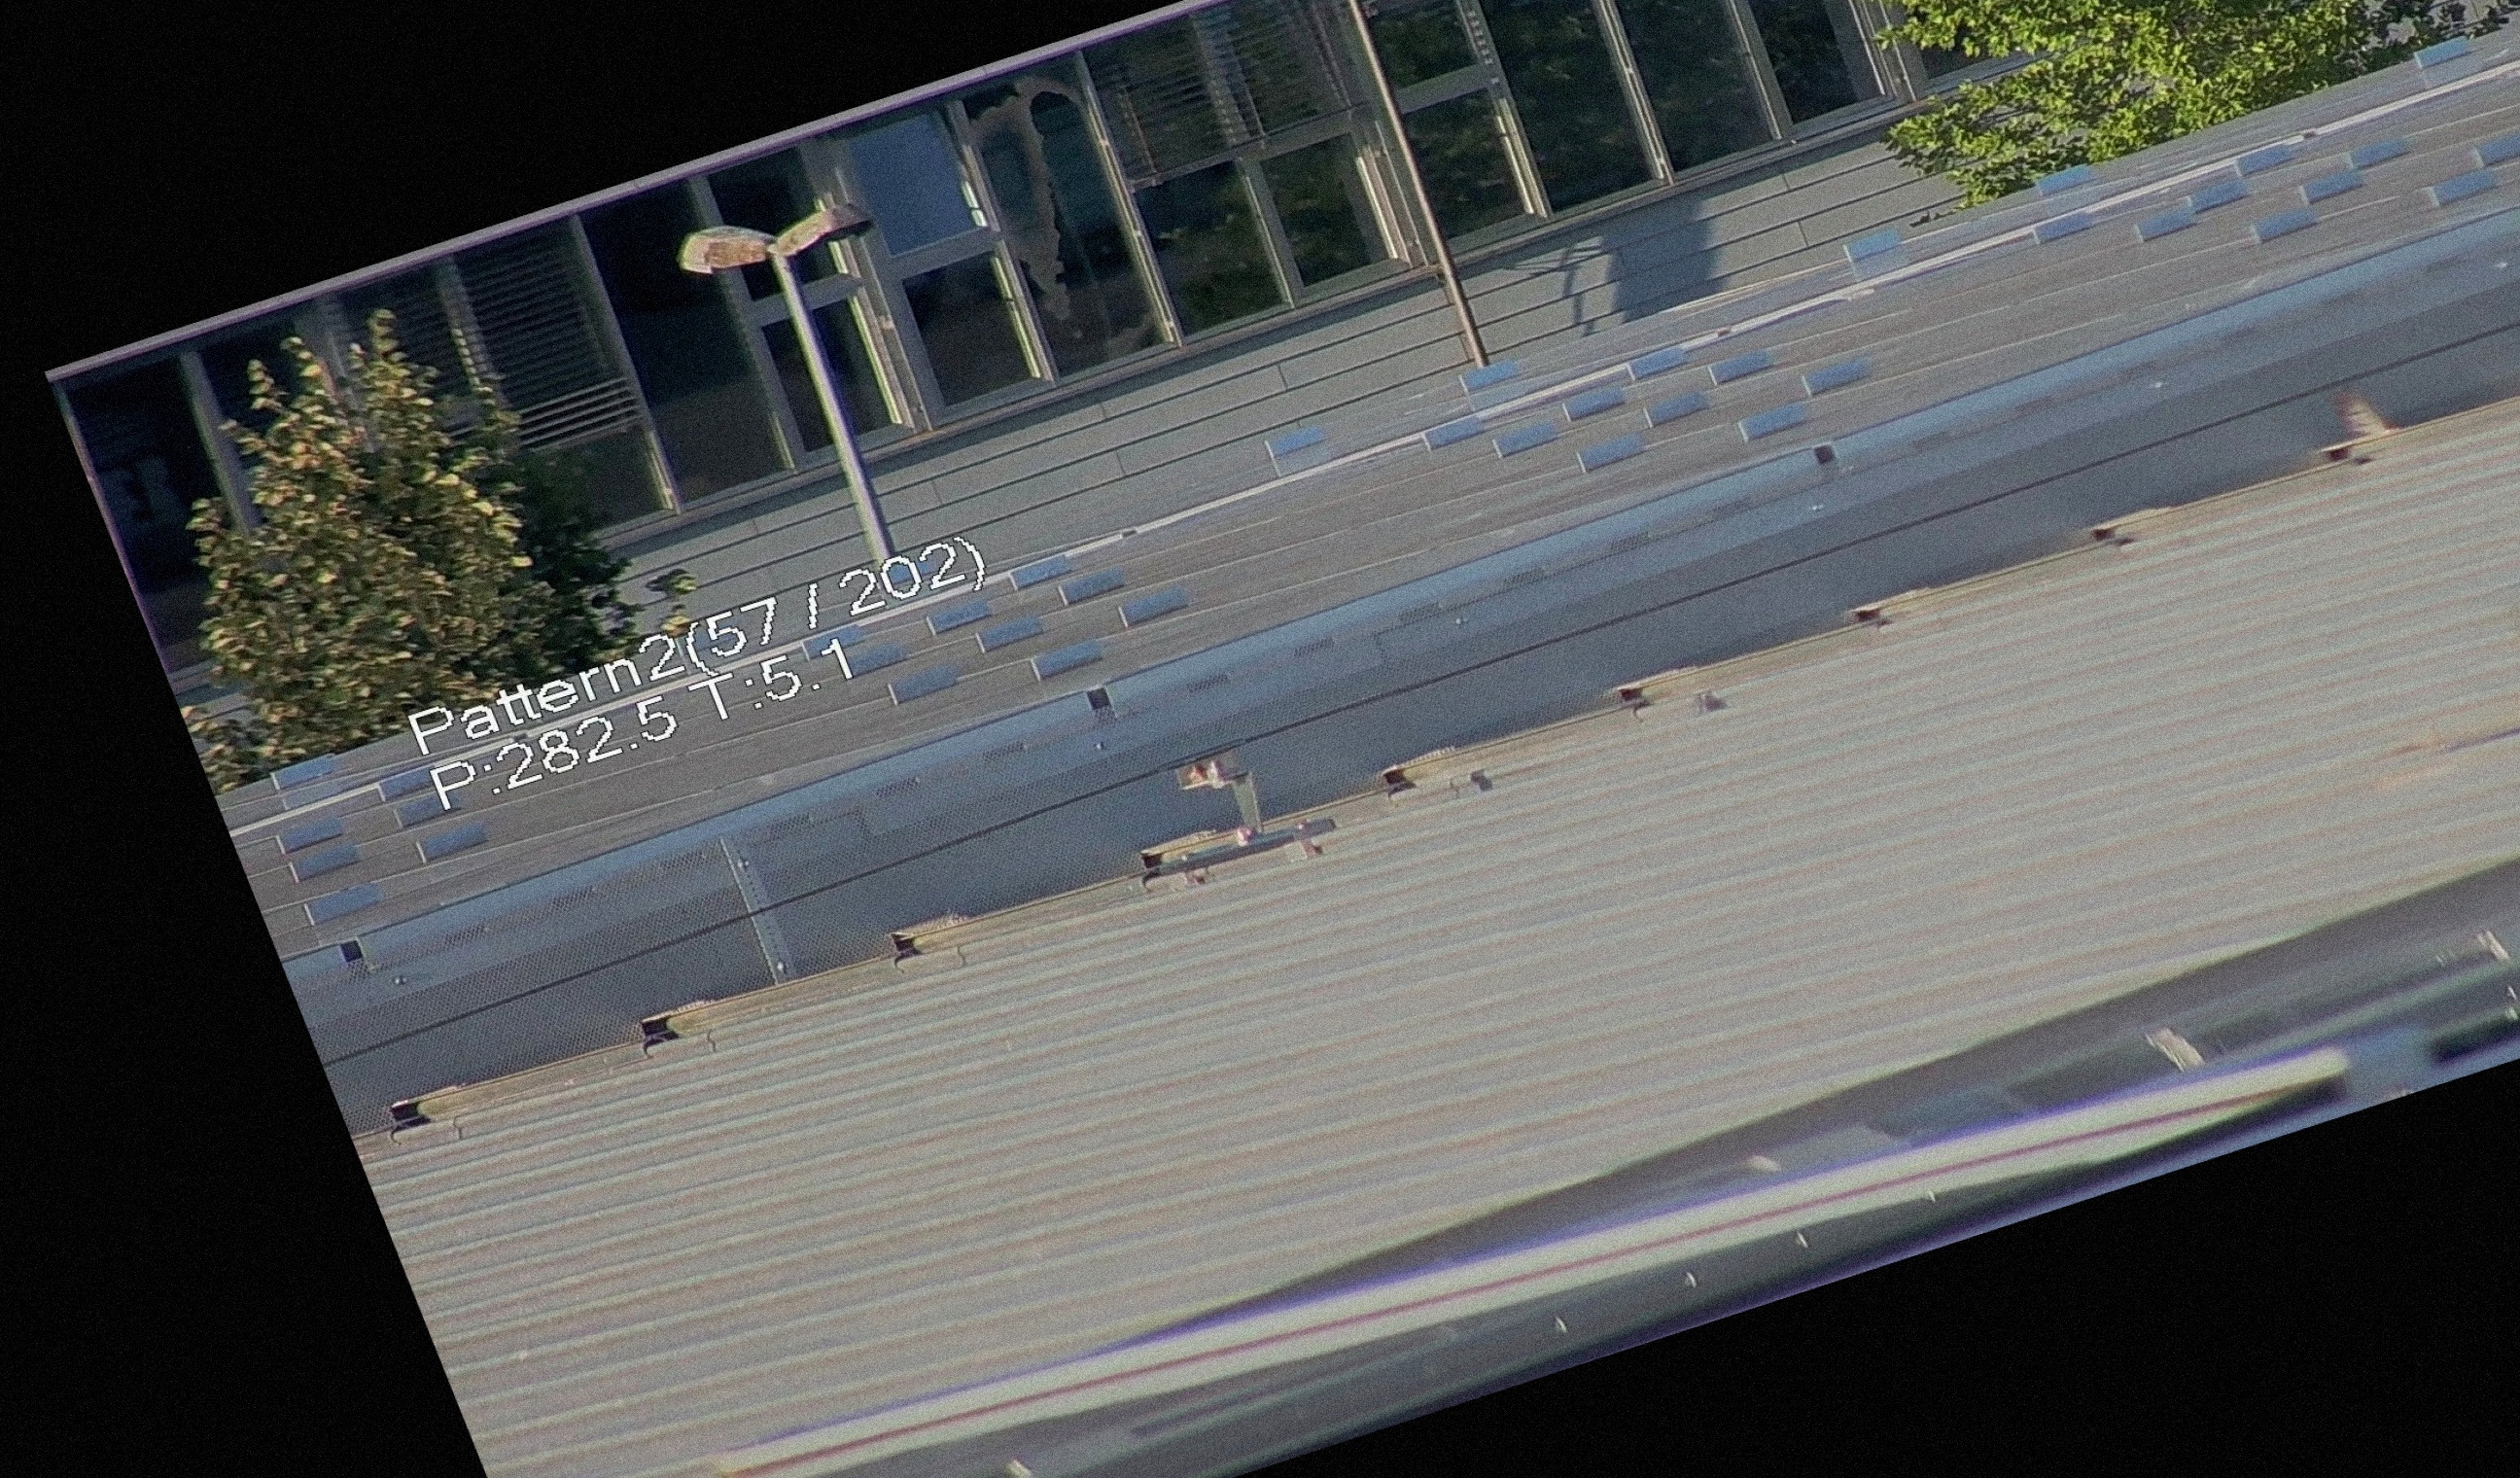Other: (2300, 362, 2427, 480)
